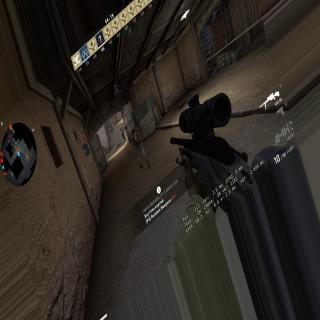T-Body: (130, 128, 152, 170), (120, 127, 125, 140)
T-Head: (132, 128, 136, 134), (120, 128, 122, 130)
